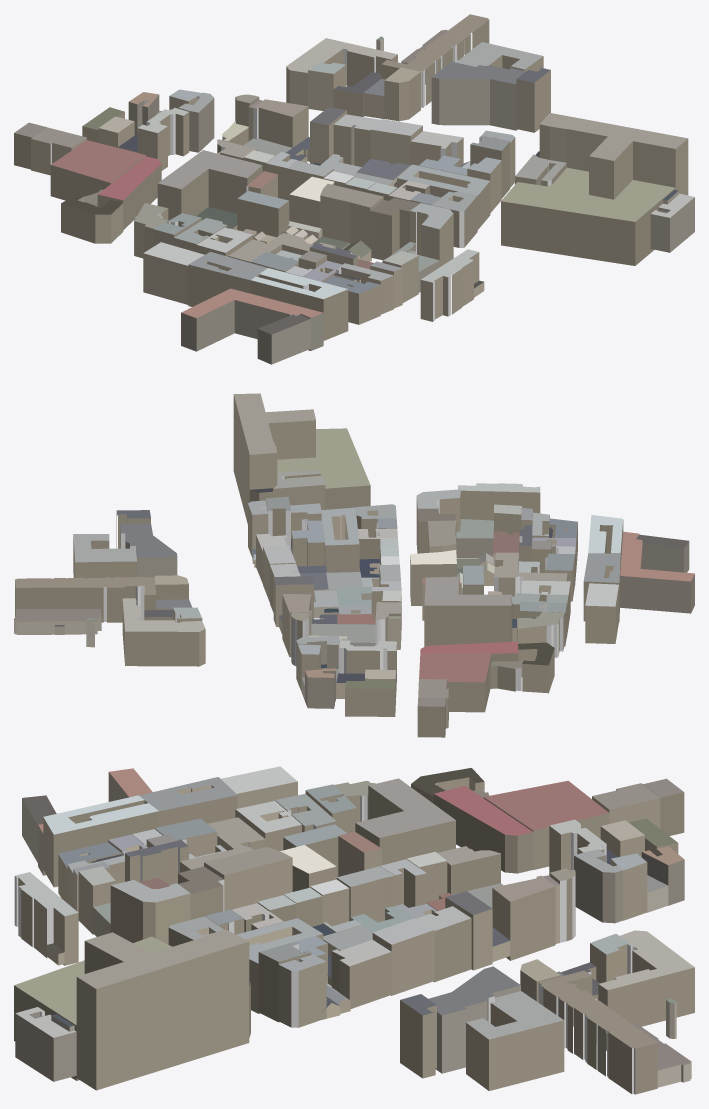
3 renders of one model, top to bottom at view 1: azimuth 30°, elevation 25°; view 2: azimuth 150°, elevation 25°; view 3: azimuth 270°, elevation 25°, orthographic. The views are drawn at different scales.
Visible parts, largest first — view 1: tuile; view 2: tuile; view 3: tuile.
Part boxes in pixels (bbox=[...]): tuile: bbox=[14, 14, 694, 364]; tuile: bbox=[14, 393, 694, 737]; tuile: bbox=[14, 766, 694, 1094].
Bounding box in the file's own units: 287 × 53.09 × 265.
